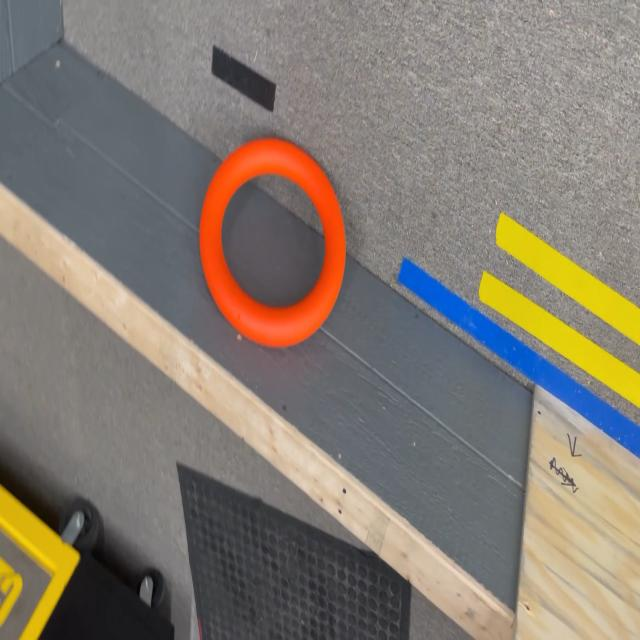note: (199, 136, 346, 345)
